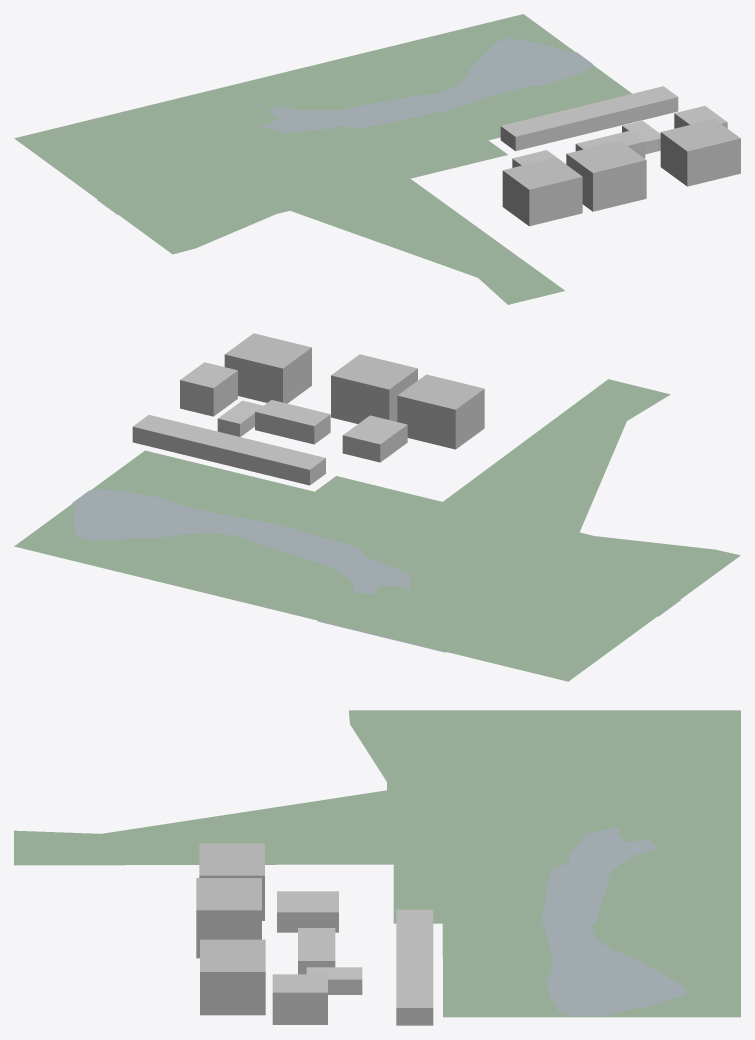
Rendered from 129_78_mid.glb.
3 renders of one model, top to bottom at view 1: azimuth 30°, elevation 25°; view 2: azimuth 150°, elevation 25°; view 3: azimuth 270°, elevation 25°, orthographic. The views are drawn at different scales.
Bounding box in the file's own units: 515 × 37.49 × 500.
